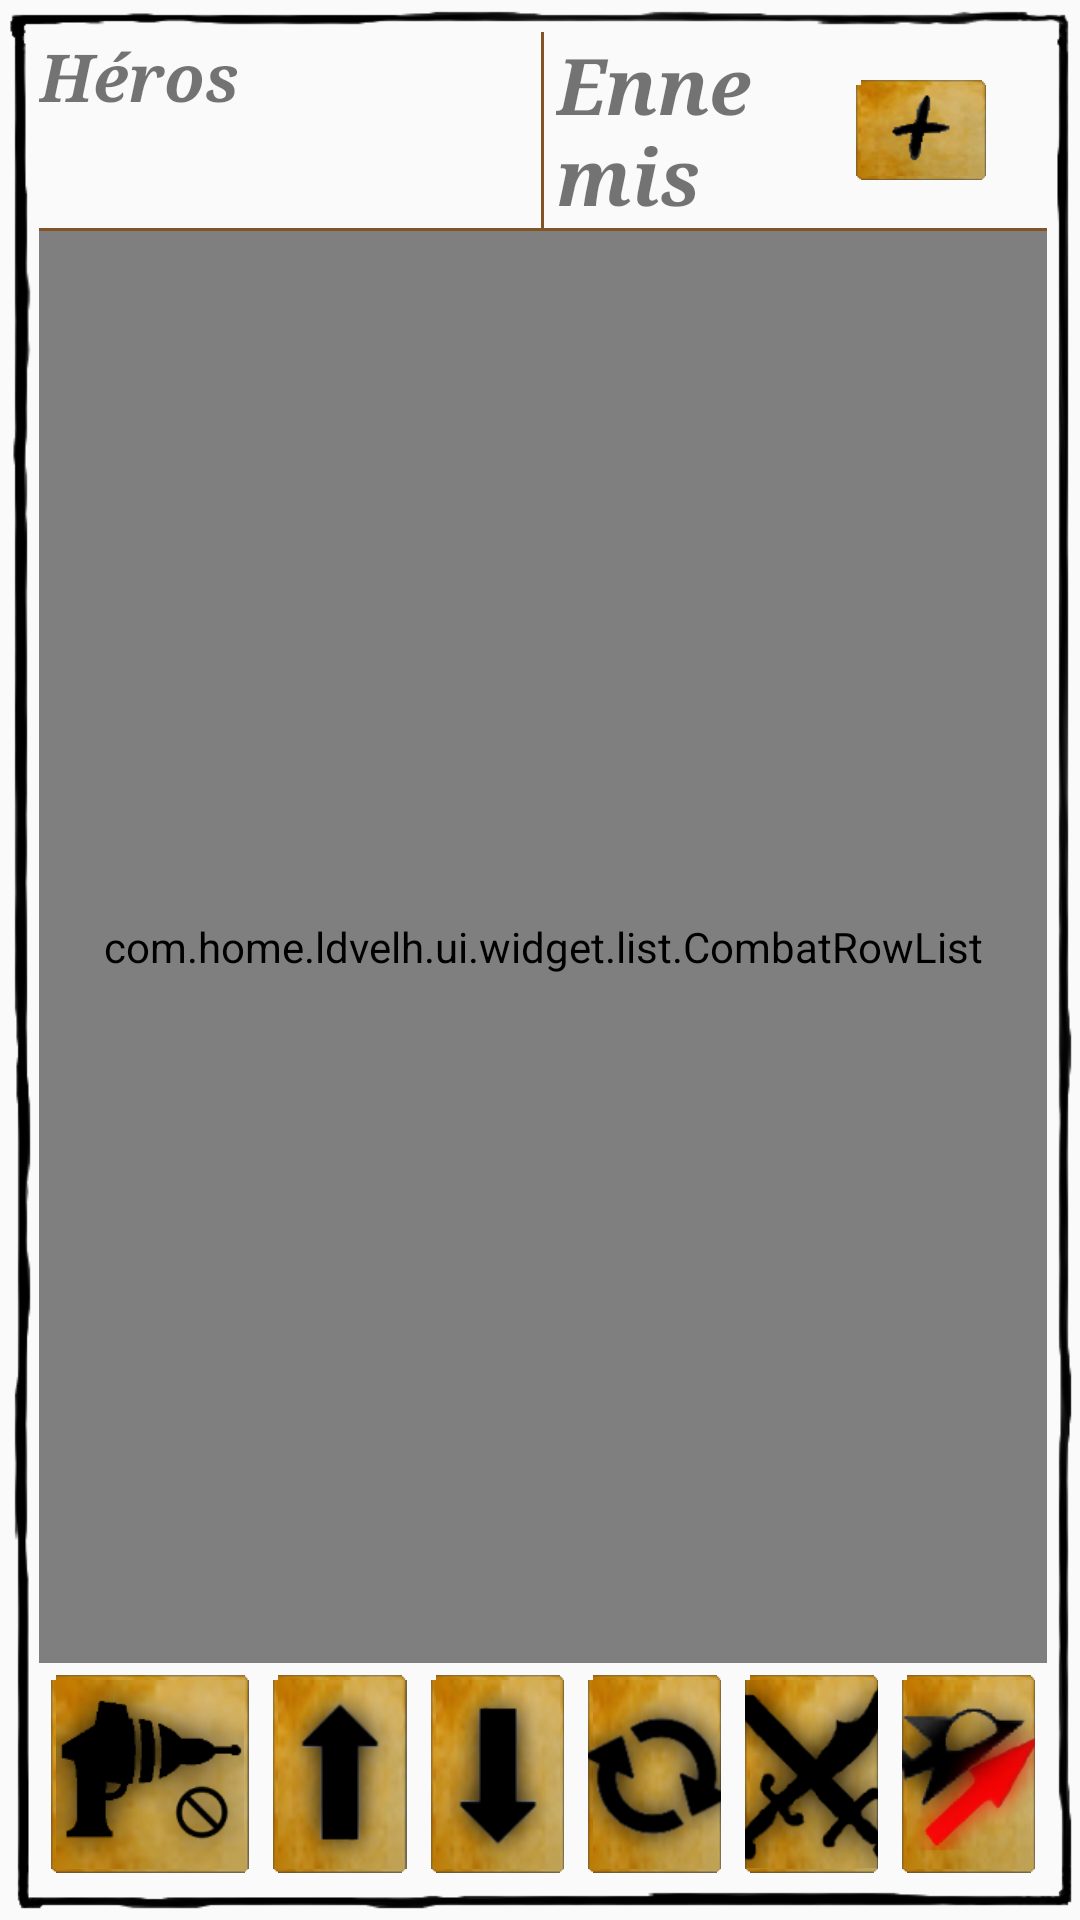

Screen size 1080×1920. Icon name, then its center in pixels as [x,y]:
assault: [811,1774]
down arrow: [497,1774]
leave planet: [968,1774]
phaser none: [150,1774]
plus medium: [921,130]
reset: [654,1774]
up arrow: [340,1774]
